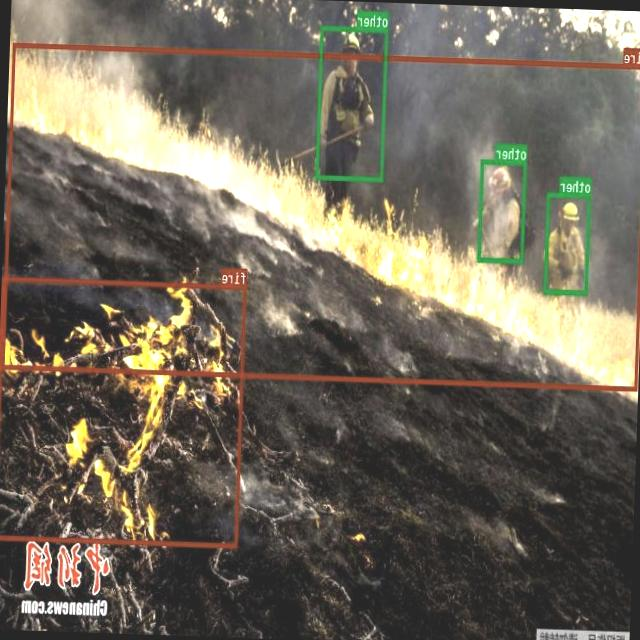fire: (1, 41, 640, 390), (0, 276, 246, 546)
